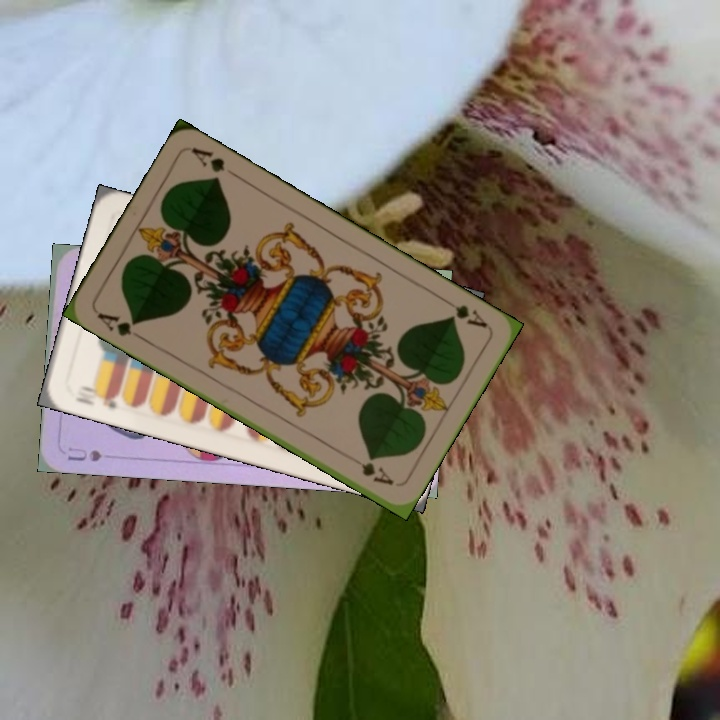E10: (72, 381, 121, 411)
GA: (438, 294, 490, 331), (92, 308, 146, 343)
SU: (63, 443, 105, 464)
